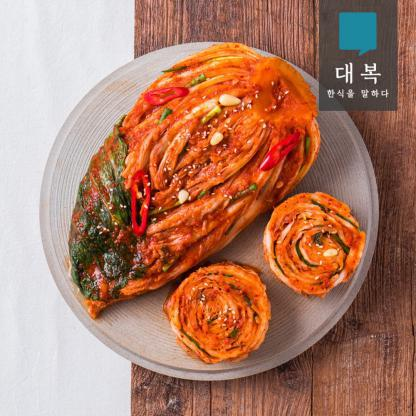kimchi: (56, 33, 315, 314), (254, 174, 379, 312), (145, 256, 285, 370)
